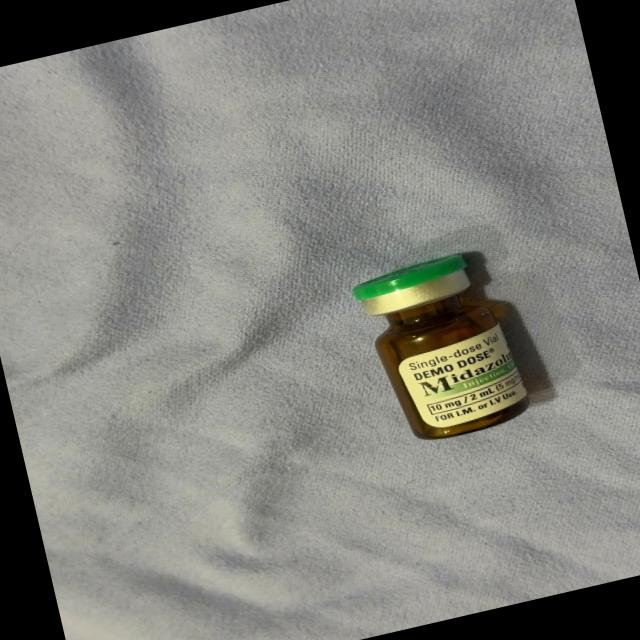midazolm: (352, 246, 532, 446)
